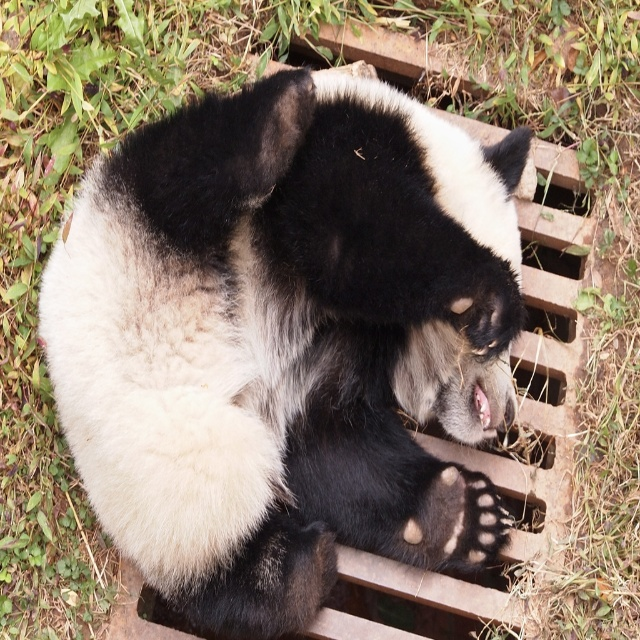Panda: (36, 66, 538, 639)
